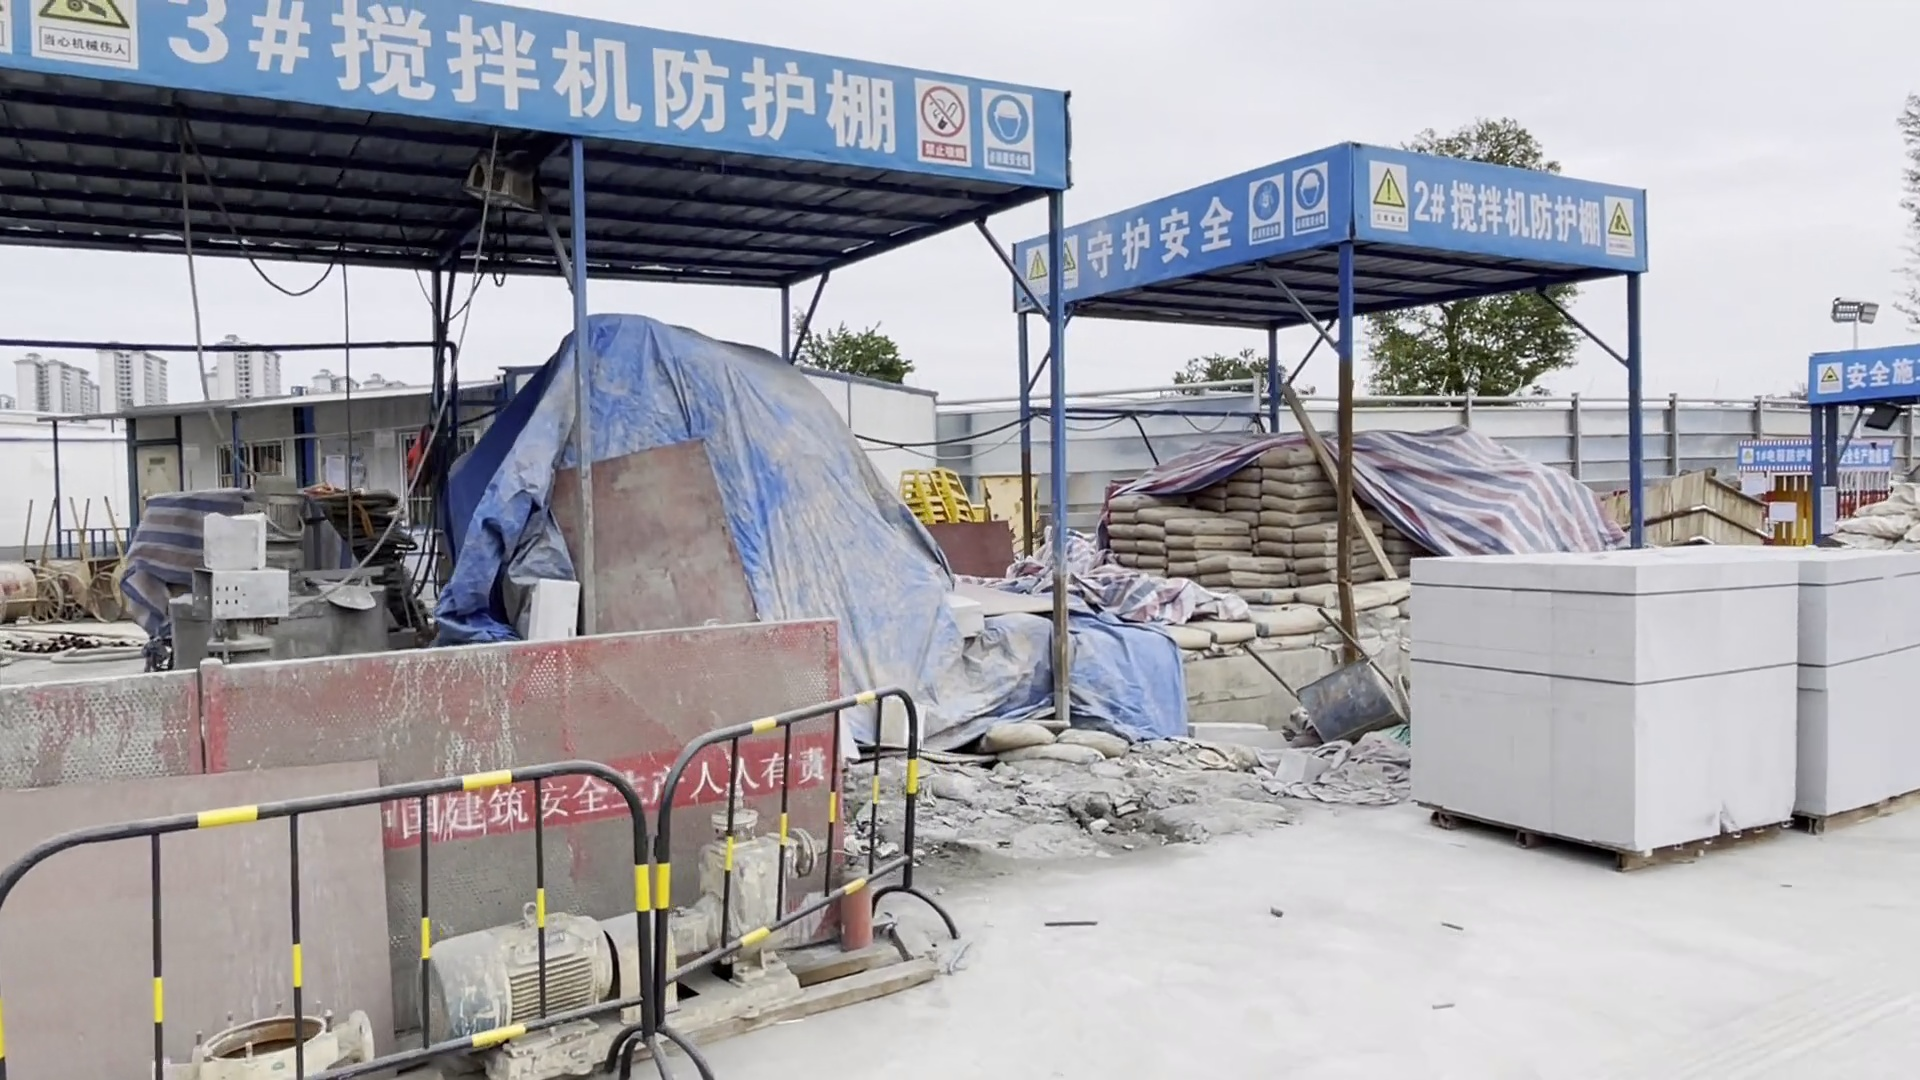brick: (1403, 545, 1801, 865), (1792, 549, 1920, 822)
fence: (1, 646, 800, 961)
slogan: (1069, 194, 1233, 284), (1817, 355, 1920, 396), (1373, 167, 1410, 227), (1602, 196, 1634, 257)
